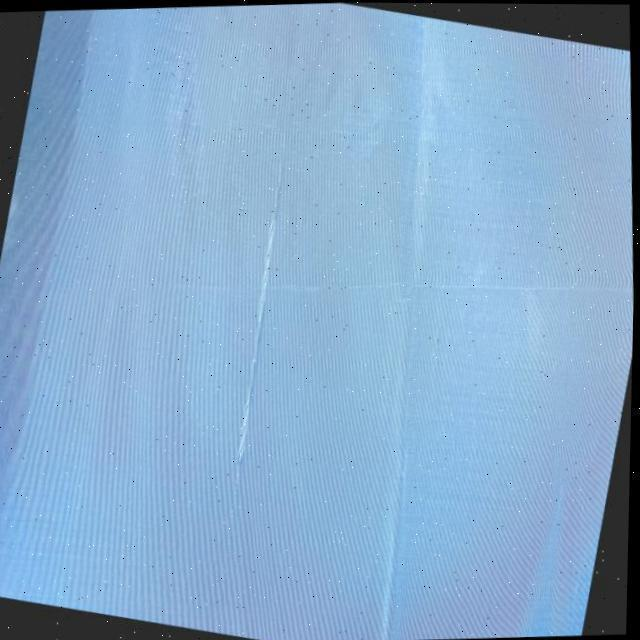pulled_or_thick_thread: (237, 139, 286, 503)
